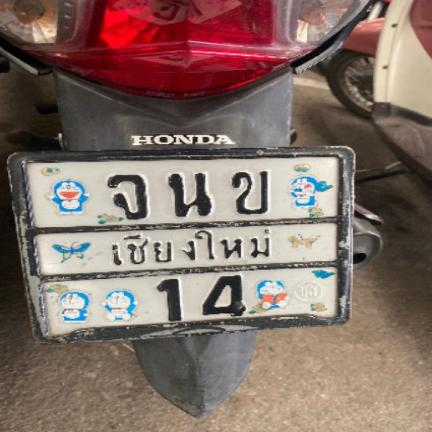1: (153, 276, 186, 323)
4: (198, 274, 255, 319)
A02: (224, 168, 273, 215)
A08: (99, 173, 153, 221)
A25: (160, 172, 218, 220)
CMI: (100, 225, 283, 267)
